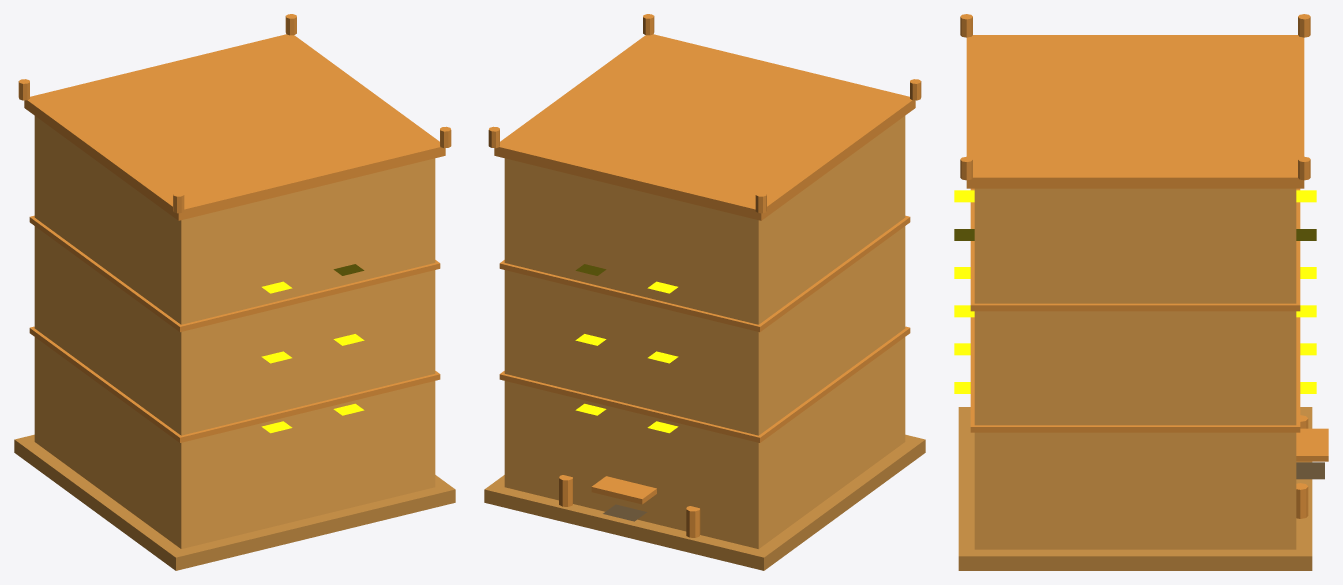
The model's file is research_institute.glb.
3 renders of one model, left to right at view 1: azimuth 30°, elevation 25°; view 2: azimuth 150°, elevation 25°; view 3: azimuth 270°, elevation 25°, orthographic. The views are drawn at different scales.
Visible parts, largest first — view 1: research_institute; view 2: research_institute; view 3: research_institute.
Part boxes in pixels (x1,y1,x2,y2): research_institute: [14, 14, 455, 570]; research_institute: [484, 14, 925, 570]; research_institute: [954, 14, 1328, 570].
Size of the model in its own units: 4.4 by 5.6 by 4.65.
